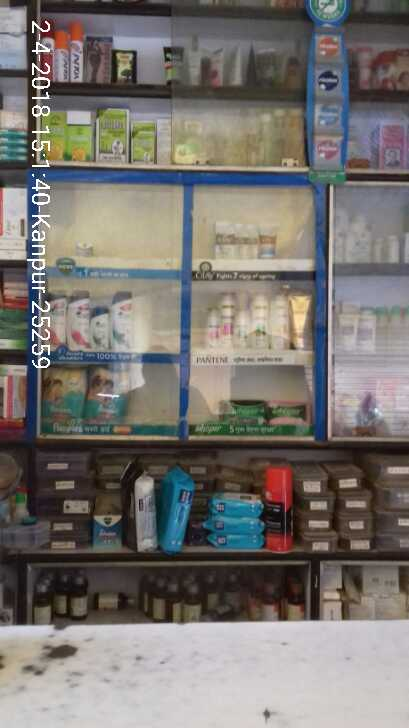vicks: (76, 242, 93, 258)
